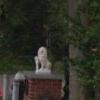Statue: (27, 37, 51, 80)
